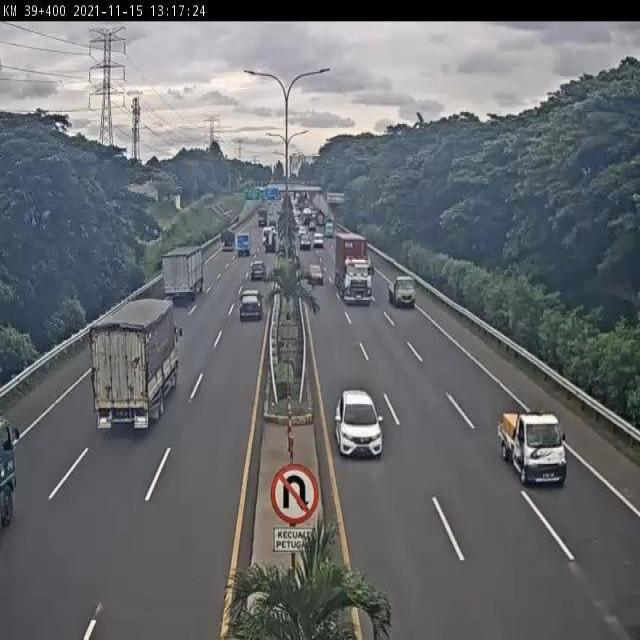car: (334, 387, 385, 460), (237, 289, 263, 323), (307, 263, 325, 287), (249, 260, 266, 283)
truck: (89, 298, 180, 434), (497, 409, 569, 488), (335, 235, 373, 304), (161, 247, 205, 305), (388, 276, 417, 309)
